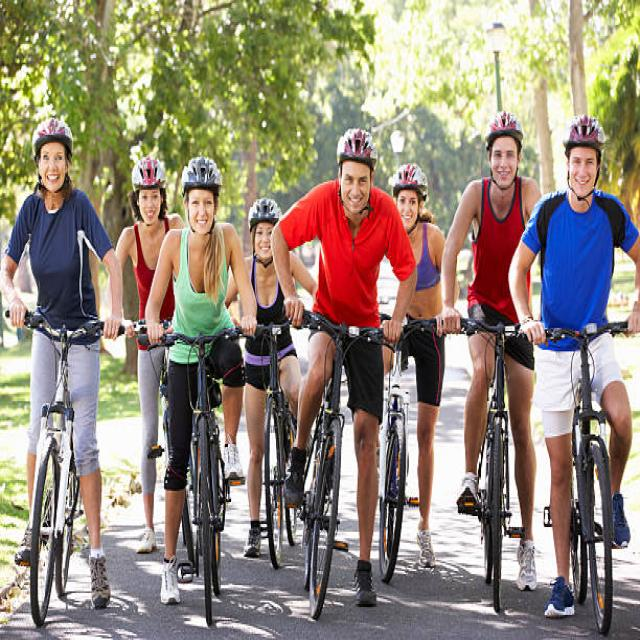helmet: (480, 83, 640, 306), (326, 86, 412, 274), (23, 70, 106, 248), (180, 122, 258, 298)
